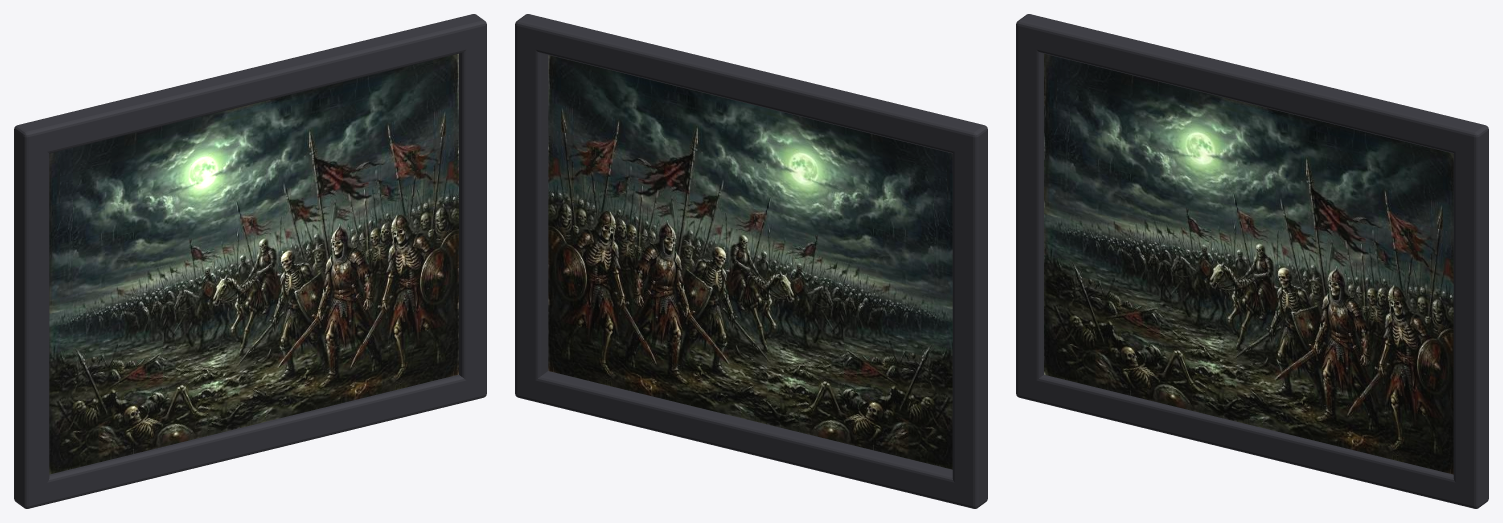
Rendered from art_skeleton_army.glb.
The picture shows the model from 3 angles, left to right: view 1: azimuth 30°, elevation 25°; view 2: azimuth 150°, elevation 25°; view 3: azimuth 330°, elevation 25°; orthographic projection.
Parts seen in each view (by area): view 1: GD_art_skeleton_army__m0, GD_art_skeleton_army__m1; view 2: GD_art_skeleton_army__m0, GD_art_skeleton_army__m1; view 3: GD_art_skeleton_army__m0, GD_art_skeleton_army__m1.
Boxes of the visible parts, x1,y1,x2,y2 form: GD_art_skeleton_army__m0: (49, 53, 458, 474); GD_art_skeleton_army__m1: (14, 14, 486, 508); GD_art_skeleton_army__m0: (548, 55, 952, 469); GD_art_skeleton_army__m1: (515, 14, 987, 508); GD_art_skeleton_army__m0: (1044, 53, 1453, 474); GD_art_skeleton_army__m1: (1016, 14, 1488, 508).
Bounding box in the file's own units: 1.26 × 0.98 × 0.06.
Materials: 2 (1 with a texture image).
